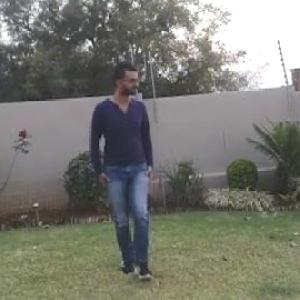follow: (91, 53, 159, 277)
